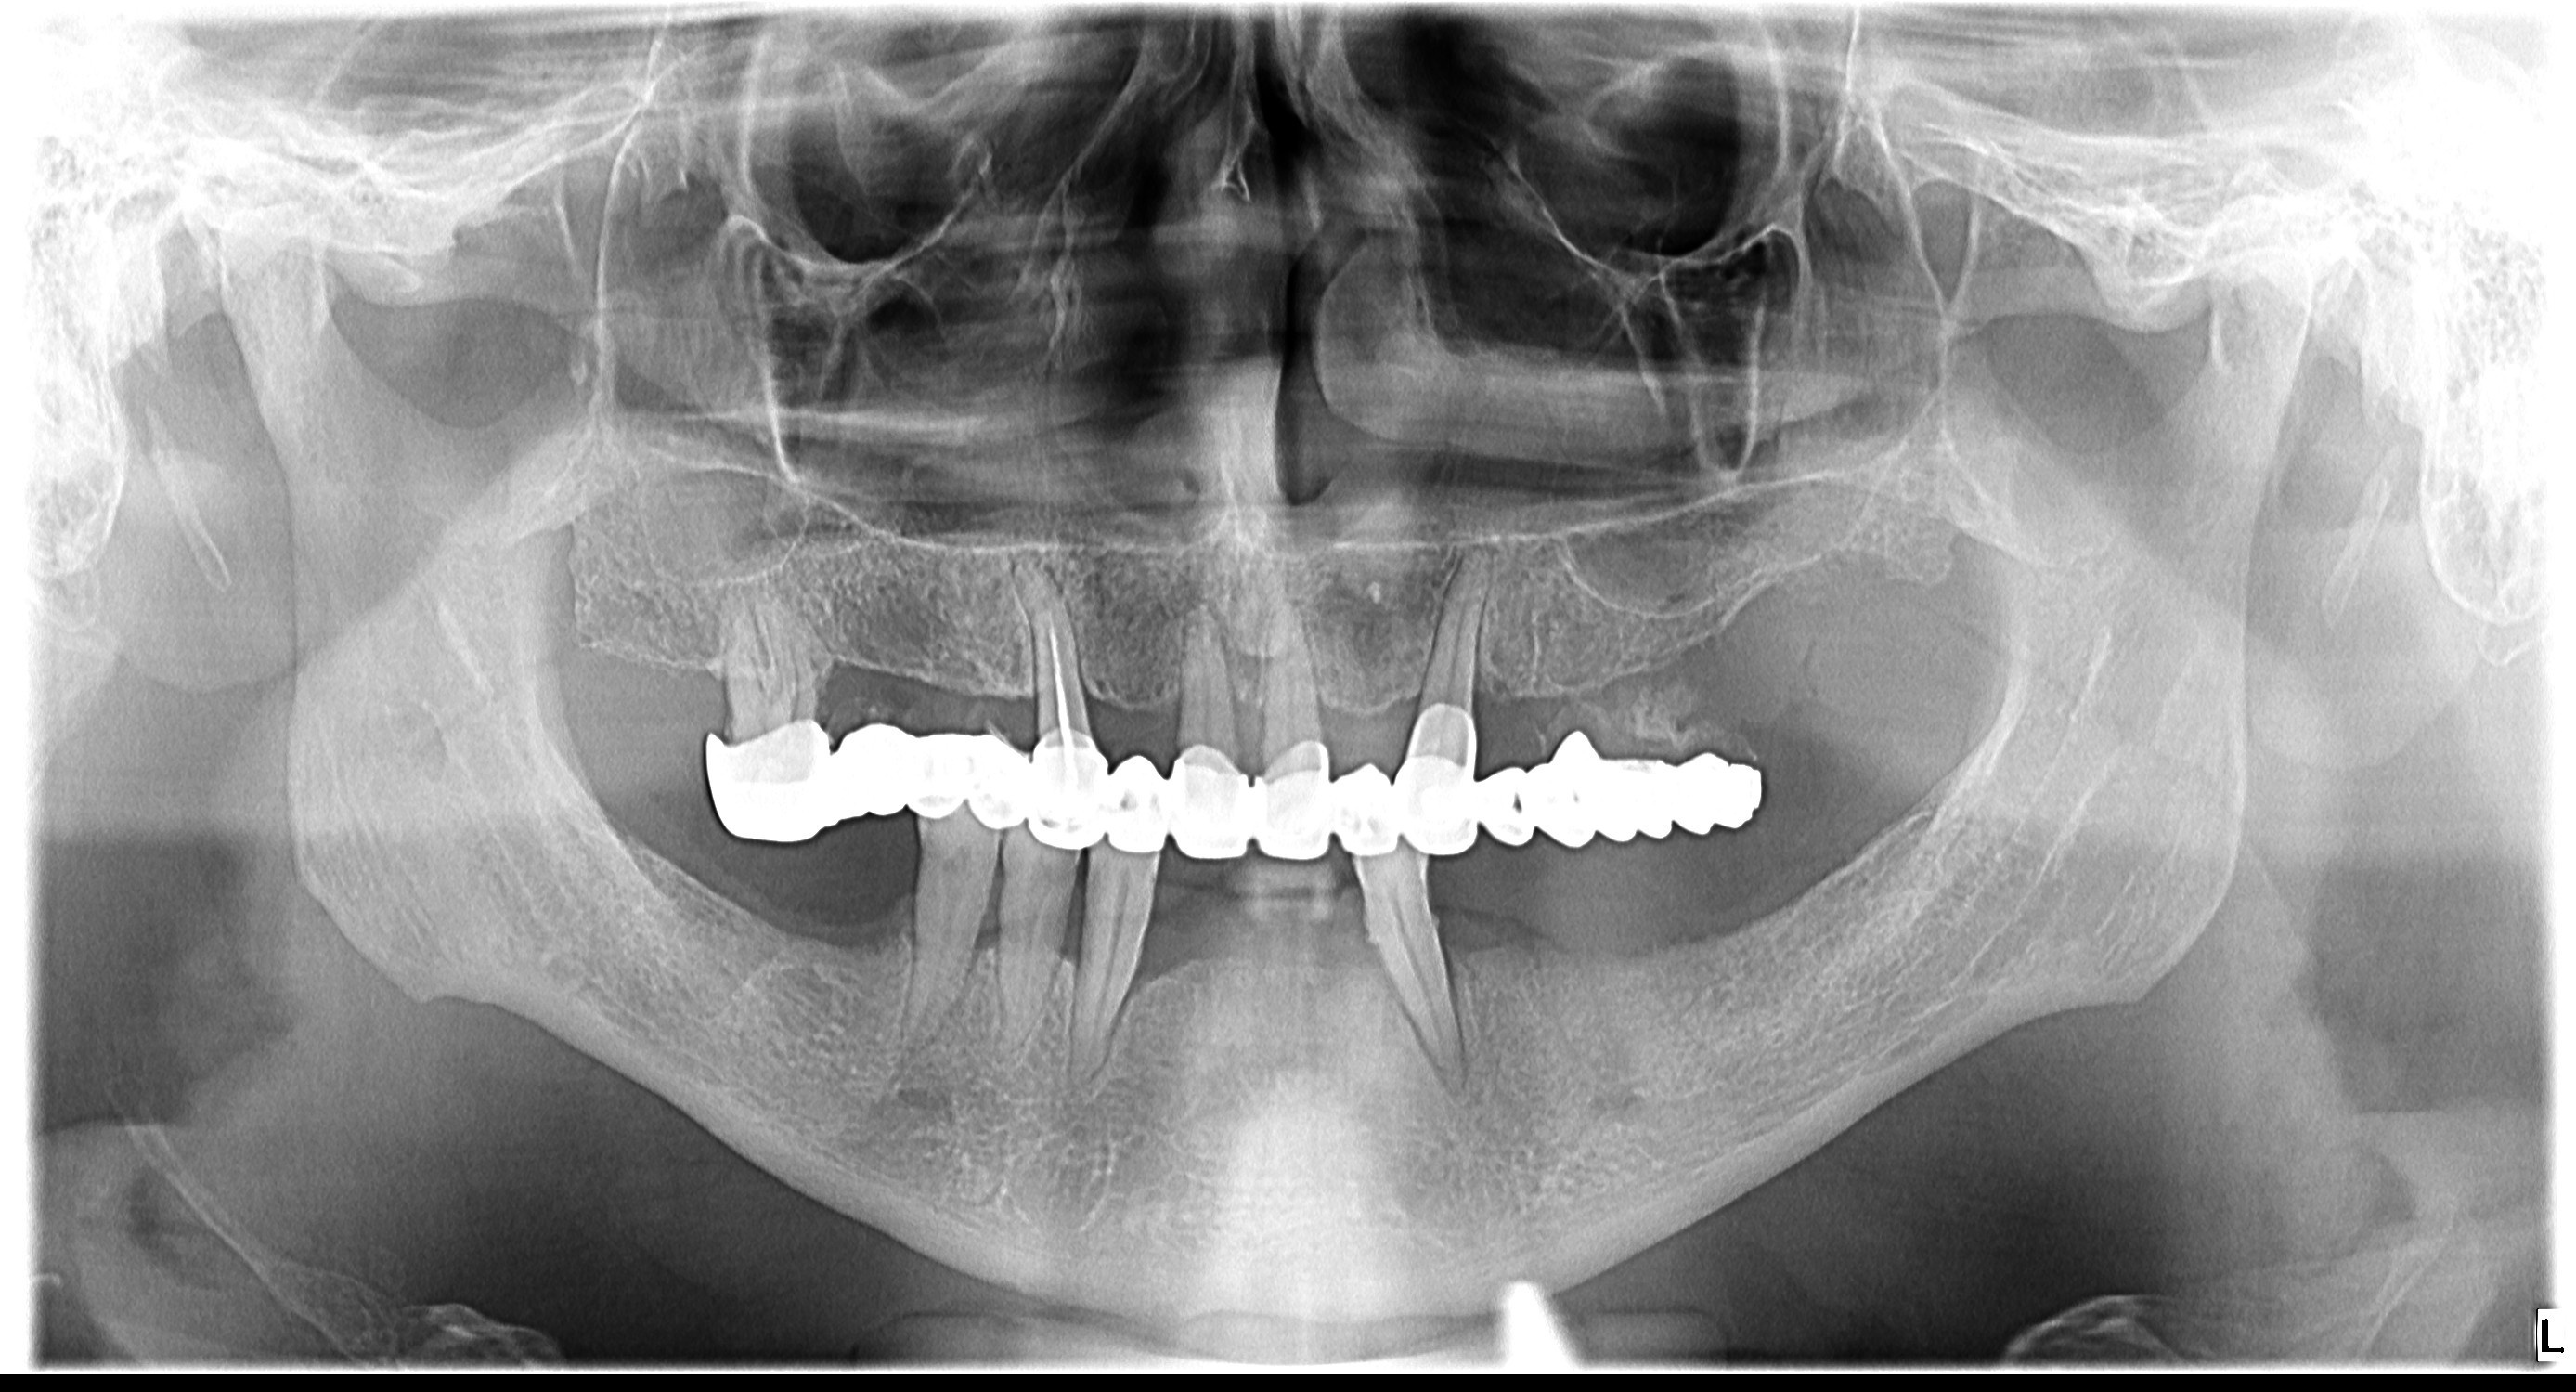BON: (1324, 897, 1410, 1003), (1117, 897, 1192, 1010), (1458, 624, 1518, 737), (1053, 861, 1101, 991), (1427, 890, 1482, 982), (1221, 658, 1276, 744), (968, 873, 1016, 967)
CAR: (786, 641, 862, 725)
END: (1029, 578, 1094, 753)
PRR: (653, 705, 1800, 874)
